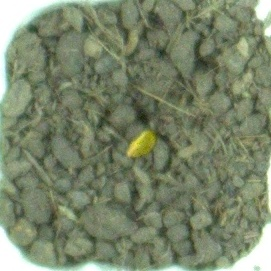pepper seed: (45, 47, 204, 207)
